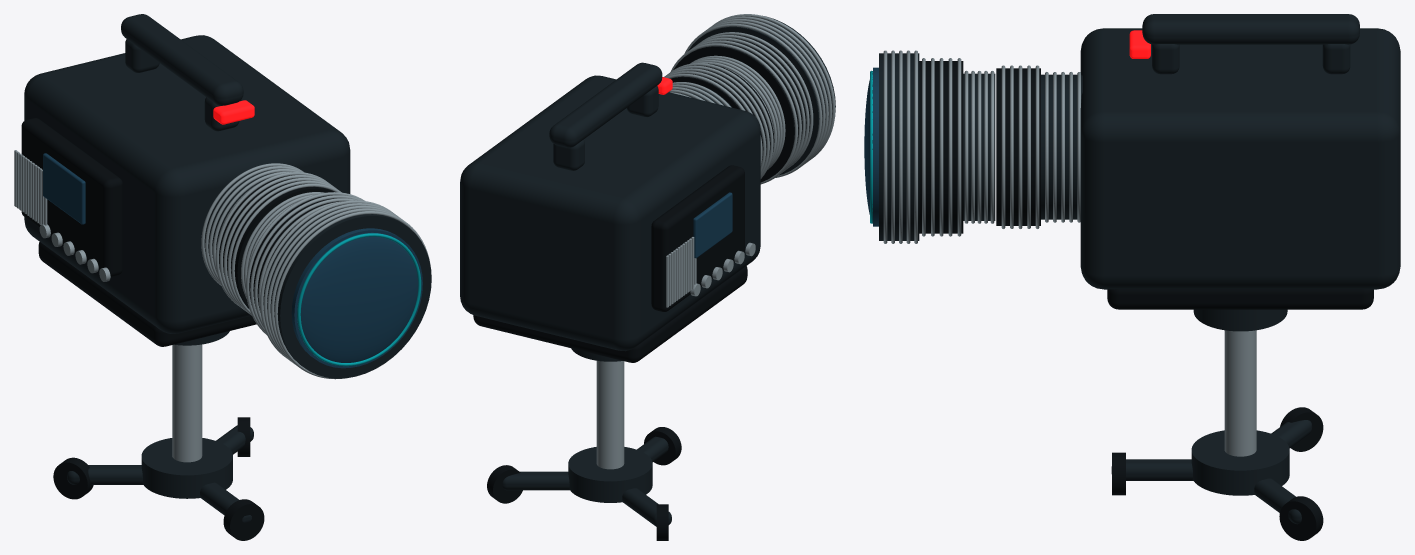
The model's file is BROADCAST_CAMERA.glb.
3 renders of one model, left to right at view 1: azimuth 30°, elevation 25°; view 2: azimuth 150°, elevation 25°; view 3: azimuth 270°, elevation 25°, orthographic. The views are drawn at different scales.
Parts seen in each view (by area): view 1: Broadcast camera body, Convex coated lens, Side housing, Lens barrel 4, Top handle, Pedestal base, Pedestal column, Shoulder pad, Lens barrel 1, Side display, Optical front element, Lens blue optical edge (+28 smaller); view 2: Broadcast camera body, Side housing, Top handle, Shoulder pad, Pedestal base, Pedestal column, Lens barrel 3, Lens barrel 4, Side display, Handle riser (×2), Lens barrel 1, Dolly leg 1 (+22 smaller); view 3: Broadcast camera body, Top handle, Shoulder pad, Lens barrel 3, Lens barrel 4, Lens barrel 1, Pedestal base, Pedestal column, Lens barrel 0, Lens barrel 2, Fluid head, Handle riser (×2) (+24 smaller).
Part boxes in pixels (box(x1,y1,x2,y2)): Broadcast camera body: box(24, 35, 350, 333); Convex coated lens: box(297, 232, 418, 362); Side housing: box(21, 118, 122, 276); Lens barrel 4: box(263, 206, 431, 378); Top handle: box(121, 14, 243, 105); Pedestal base: box(141, 438, 232, 498); Pedestal column: box(172, 344, 202, 462); Shoulder pad: box(38, 242, 256, 346); Lens barrel 1: box(219, 175, 335, 309); Side display: box(43, 153, 85, 224); Optical front element: box(291, 228, 422, 368); Lens blue optical edge: box(297, 233, 421, 366); Broadcast camera body: box(460, 75, 760, 351); Side housing: box(651, 165, 744, 311); Top handle: box(549, 62, 662, 147); Shoulder pad: box(473, 266, 747, 362); Pedestal base: box(568, 447, 652, 502); Pedestal column: box(596, 360, 624, 469); Lens barrel 3: box(673, 35, 810, 182); Lens barrel 4: box(688, 16, 835, 175); Side display: box(693, 192, 732, 258); Handle riser (×2): box(553, 86, 658, 170); Lens barrel 1: box(670, 63, 774, 159); Dolly leg 1: box(502, 471, 569, 490); Broadcast camera body: box(1080, 28, 1400, 289); Top handle: box(1142, 14, 1359, 44); Shoulder pad: box(1107, 289, 1373, 309); Lens barrel 3: box(919, 61, 963, 233); Lens barrel 4: box(879, 53, 919, 240); Lens barrel 1: box(996, 68, 1040, 225); Pedestal base: box(1191, 430, 1289, 495); Pedestal column: box(1224, 330, 1256, 456); Lens barrel 0: box(1041, 74, 1082, 219); Lens barrel 2: box(963, 73, 995, 220); Fluid head: box(1193, 309, 1287, 331); Handle riser (×2): box(1152, 44, 1350, 74).
Size of the model in its own units: 1.26 by 2.46 by 2.51.
